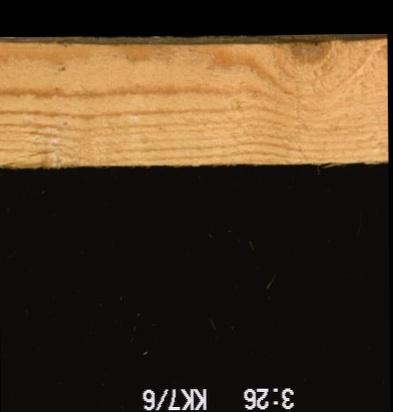edge_knot: (286, 38, 334, 78)
